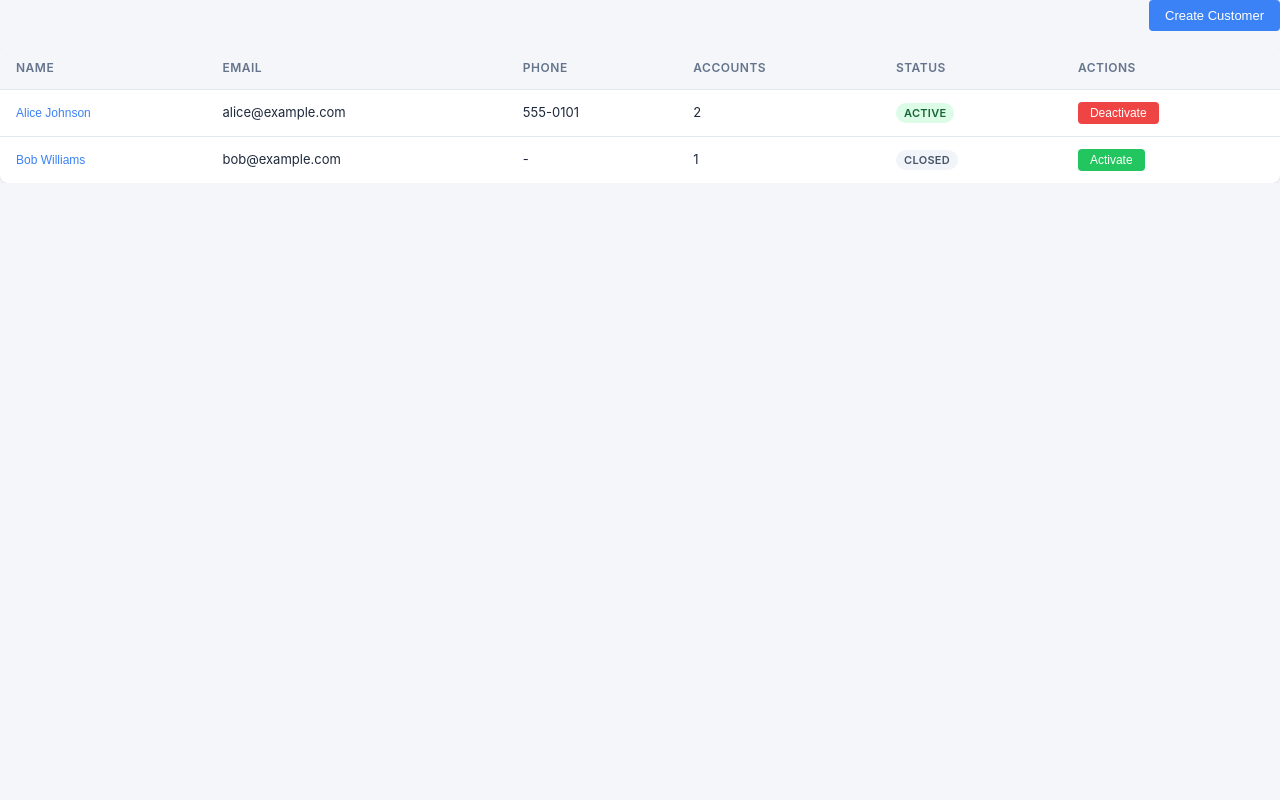
Test: CustomersPage › opens activate confirm dialog
Click the button "Activate".
click(1111, 160)  # box [1078,149,1145,171]
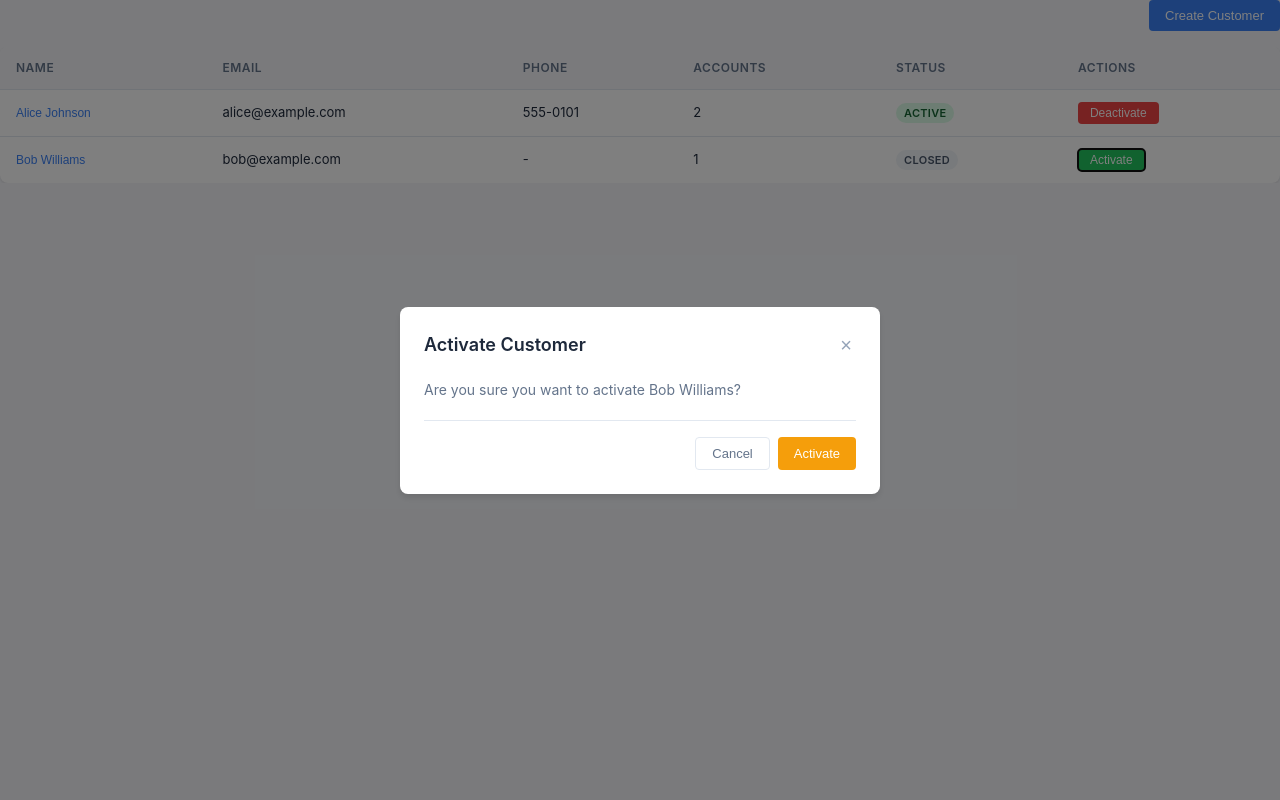
Now the text "Are you sure you want to activate Bob Williams?" is shown, box [424,380,741,398]
